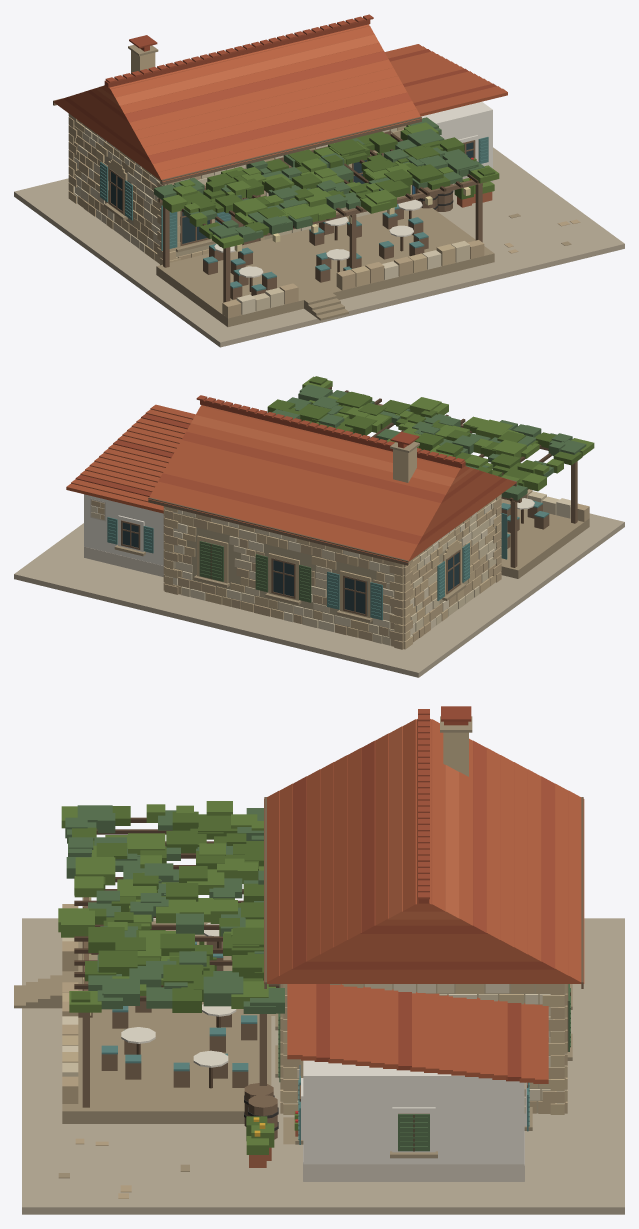
The model's file is kahvehane-meyhane.glb.
3 renders of one model, top to bottom at view 1: azimuth 30°, elevation 25°; view 2: azimuth 150°, elevation 25°; view 3: azimuth 270°, elevation 25°, orthographic. The views are drawn at different scales.
Visible parts, largest first — view 1: kiremit1, zemin, tas_koyu, asma2, ahsap, kiremit2, zeytin, asma, tas2, tas3, tas1, kiremit3 (+8 smaller); view 2: kiremit1, zemin, tas2, kiremit2, tas3, asma2, tas1, ahsap, asma, zeytin, tas_koyu, harc (+9 smaller); view 3: kiremit1, zemin, badana, tas_koyu, kiremit2, asma2, zeytin, asma, ahsap, kiremit3, tas3, tas2 (+8 smaller).
Boxes of the visible parts, left/top/right/bottom form: kiremit1: left=54, top=24, right=507, bottom=181; zemin: left=14, top=147, right=624, bottom=347; tas_koyu: left=104, top=45, right=571, bottom=326; asma2: left=179, top=129, right=495, bottom=238; ahsap: left=53, top=98, right=486, bottom=302; kiremit2: left=63, top=14, right=411, bottom=163; zeytin: left=154, top=117, right=484, bottom=242; asma: left=162, top=122, right=499, bottom=248; tas2: left=68, top=50, right=455, bottom=286; tas3: left=68, top=113, right=580, bottom=318; tas1: left=69, top=121, right=469, bottom=311; kiremit3: left=95, top=34, right=378, bottom=106; kiremit1: left=66, top=404, right=516, bottom=562; zemin: left=14, top=513, right=624, bottom=677; tas2: left=98, top=447, right=501, bottom=649; kiremit2: left=158, top=395, right=506, bottom=545; tas3: left=91, top=489, right=589, bottom=649; asma2: left=267, top=376, right=581, bottom=486; tas1: left=91, top=491, right=559, bottom=645; ahsap: left=121, top=392, right=582, bottom=616; asma: left=302, top=376, right=594, bottom=491; zeytin: left=272, top=384, right=586, bottom=500; tas_koyu: left=114, top=441, right=589, bottom=622; harc: left=174, top=511, right=491, bottom=645; kiremit1: left=264, top=719, right=584, bottom=1083; zemin: left=22, top=918, right=624, bottom=1214; badana: left=301, top=1060, right=526, bottom=1164; tas_koyu: left=14, top=716, right=572, bottom=1178; kiremit2: left=292, top=709, right=555, bottom=969; asma2: left=71, top=806, right=267, bottom=1140; zeytin: left=65, top=805, right=284, bottom=1013; asma: left=58, top=801, right=298, bottom=1154; ahsap: left=78, top=797, right=583, bottom=1139; kiremit3: left=387, top=726, right=460, bottom=919; tas3: left=62, top=904, right=567, bottom=1198; tas2: left=62, top=732, right=567, bottom=1114.
Bounding box in the file's own units: 17 × 7.24 × 15.2.
